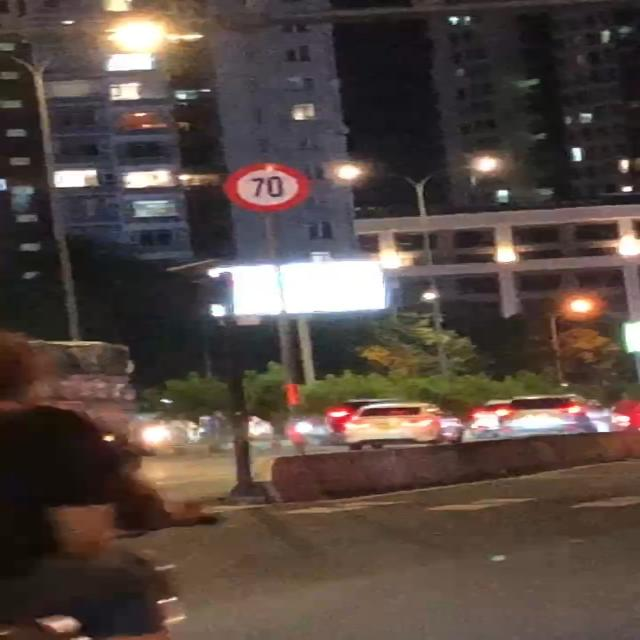Bien bao toc do toi da cho phep: (222, 160, 316, 215)
